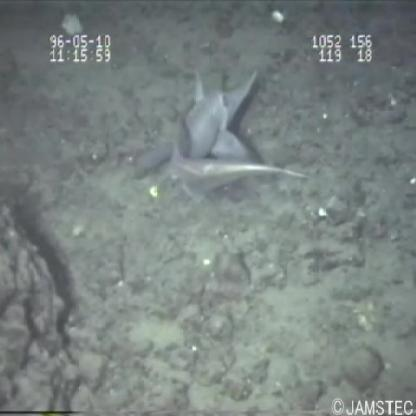Bio: (119, 52, 315, 203)
